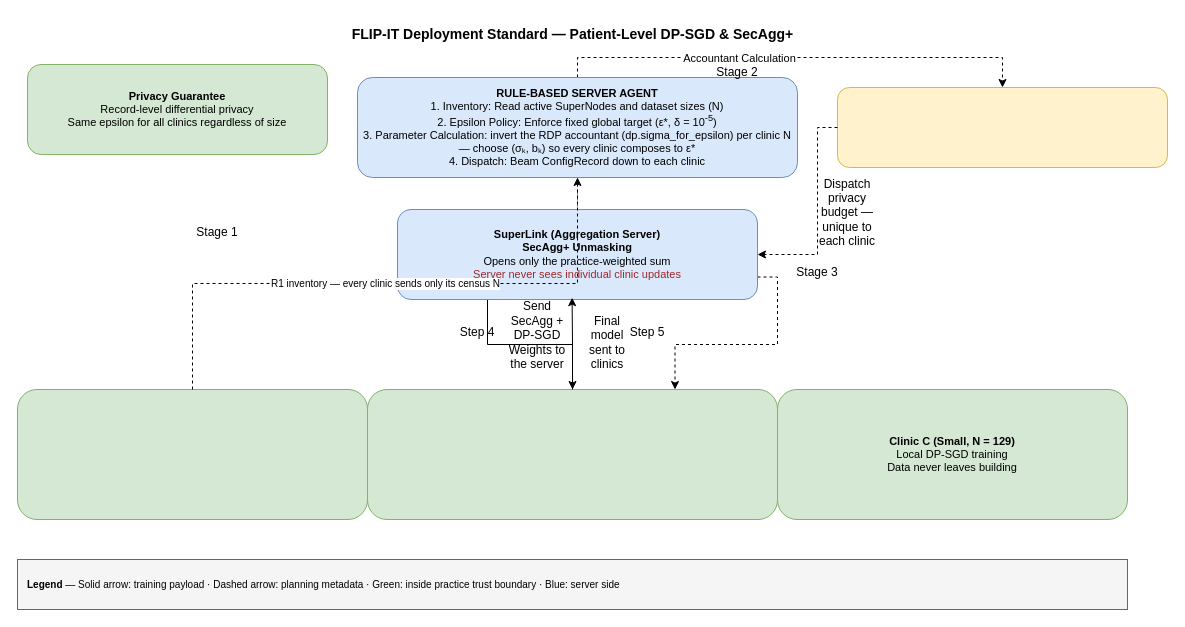
This 1185x627 diagram has some shape labels left out. Here are the shapes that lost their labels. From the top down, the centre of each, then its label:
point (1002, 127): RDP Accountant Tracks composition and privacy budget
point (192, 454): Clinic A (Large, N = 425) Local DP-SGD training Data never leaves building
point (572, 454): Clinic B (Mid, N = 172) Local DP-SGD training Data never leaves building
